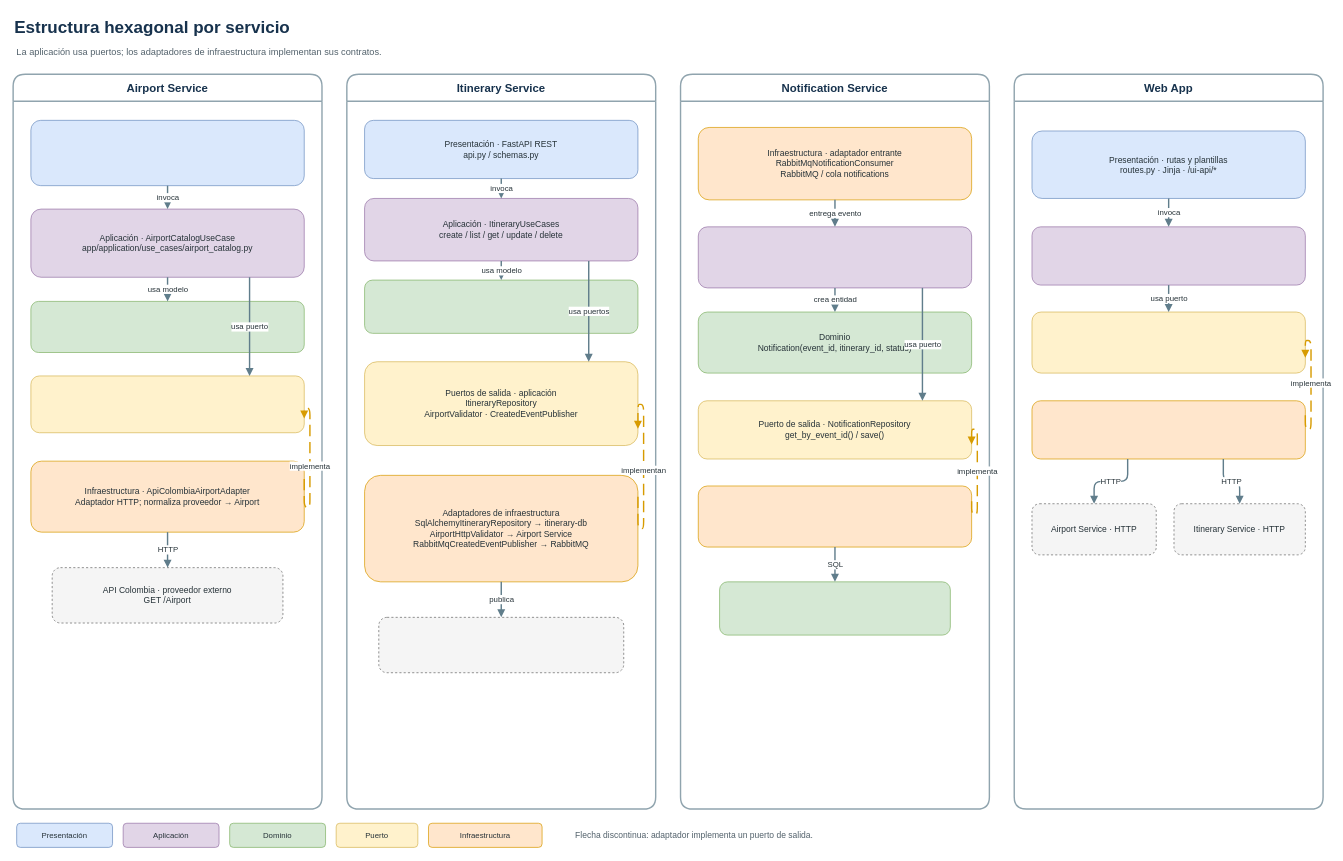
This 1343x861 diagram has some shape labels left out. The shapes that lost their labels are listed below. From the top down, each one's centre as x and y in pixels, then its label:
At point (167, 153): "Presentación · entrada HTTP create_router / FastAPI app/presentation/api.py".
At point (835, 257): "Aplicación · handle_itinerary_created(event)".
At point (1168, 255): "Aplicación ProxyInternalService".
At point (501, 306): "Dominio Itinerary · ItineraryDetails".
At point (167, 327): "Dominio Airport".
At point (1168, 342): "Puerto de salida · ServiceGateway request(base_url, method, path, ...)".
At point (167, 404): "Puerto de salida · AirportCatalog list() / get(airport_id)".
At point (1168, 429): "Infraestructura · HttpxServiceGateway".
At point (835, 516): "Infraestructura · SqlAlchemyNotificationRepository".
At point (834, 608): "PostgreSQL · notification-db".
At point (501, 645): "Evento de salida ItineraryCreatedEvent · contrato AsyncAPI".
